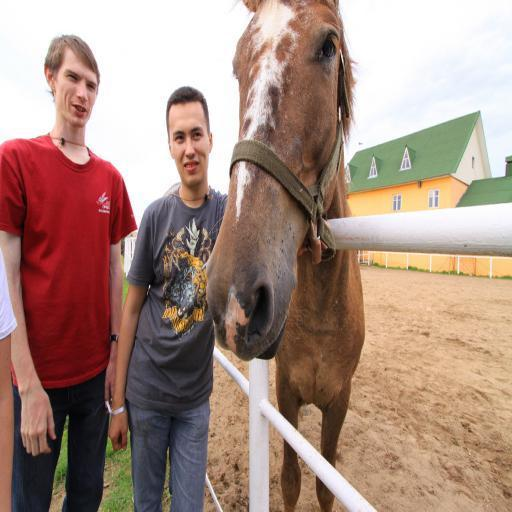horse: (205, 0, 365, 512)
